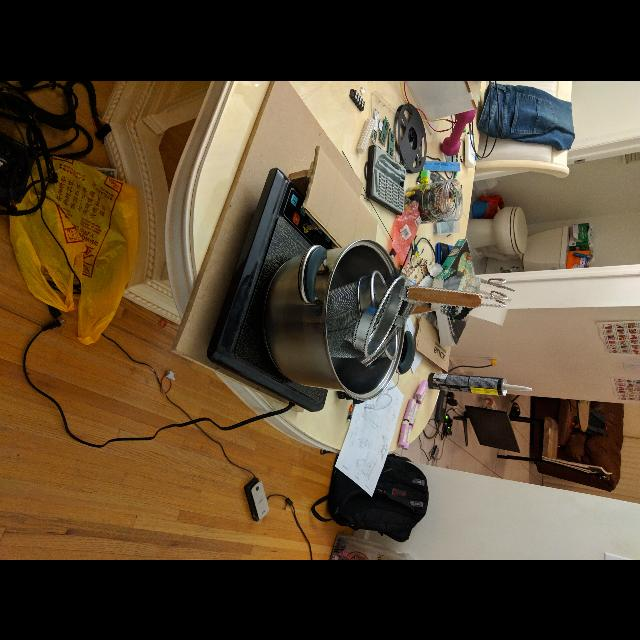Handle: (400, 262, 512, 324)
Strainer: (352, 266, 416, 368)
